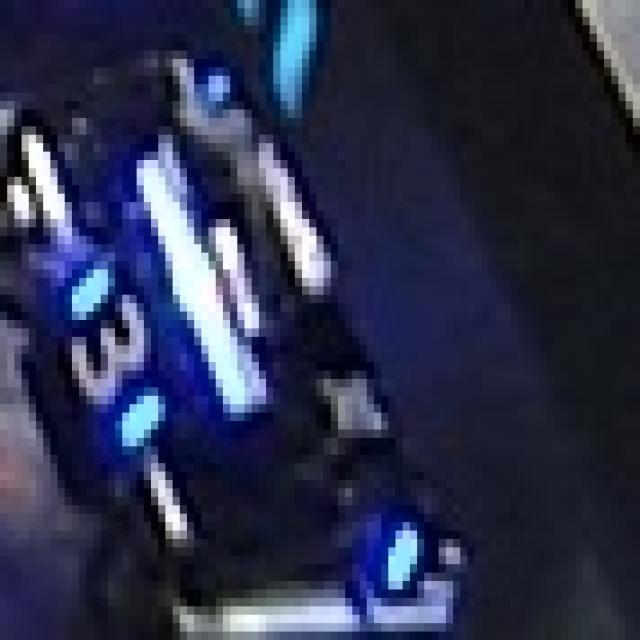B3: (58, 261, 172, 446)
